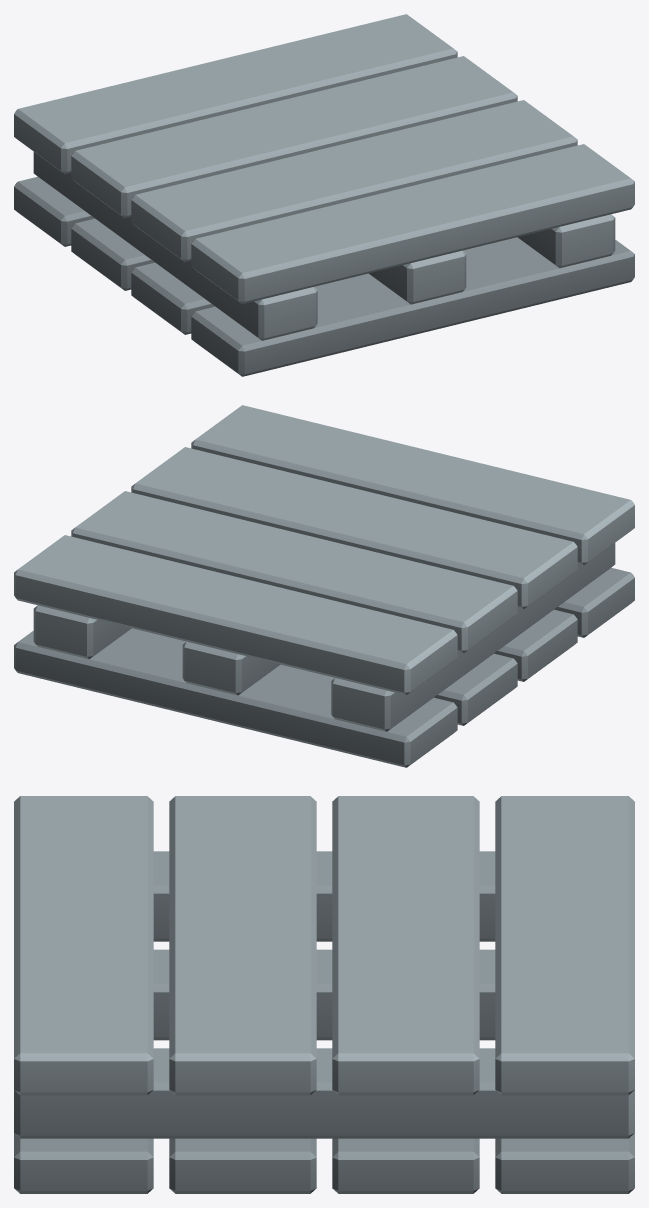
Rendered from Platform.fbx.
3 renders of one model, top to bottom at view 1: azimuth 30°, elevation 25°; view 2: azimuth 150°, elevation 25°; view 3: azimuth 270°, elevation 25°, orthographic. The views are drawn at different scales.
Visible parts, largest first — view 1: Platform; view 2: Platform; view 3: Platform.
Part boxes in pixels (x1,y1,x2,y2): Platform: (14,14,634,376); Platform: (14,405,634,767); Platform: (14,796,634,1193).
Size of the model in its own units: 2 by 0.5 by 2.
